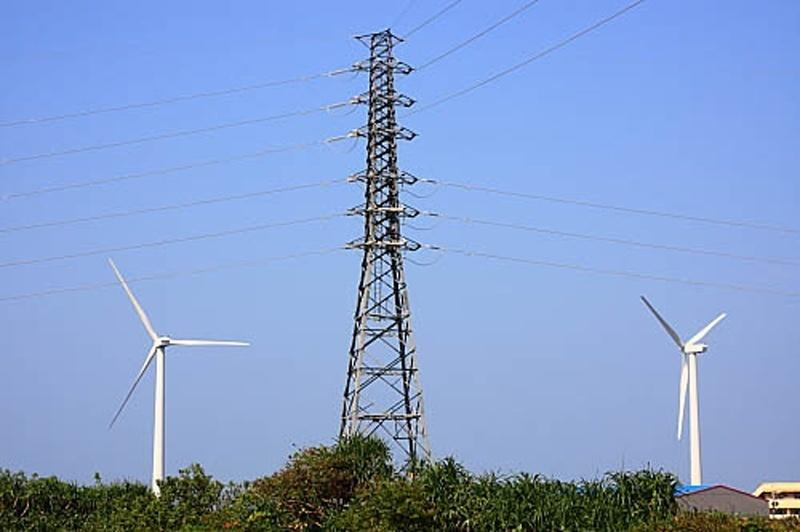power_tower: (320, 20, 460, 485)
